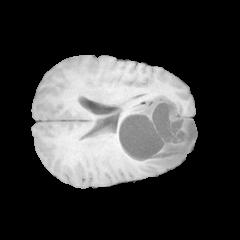glioma: (108, 96, 197, 167)
